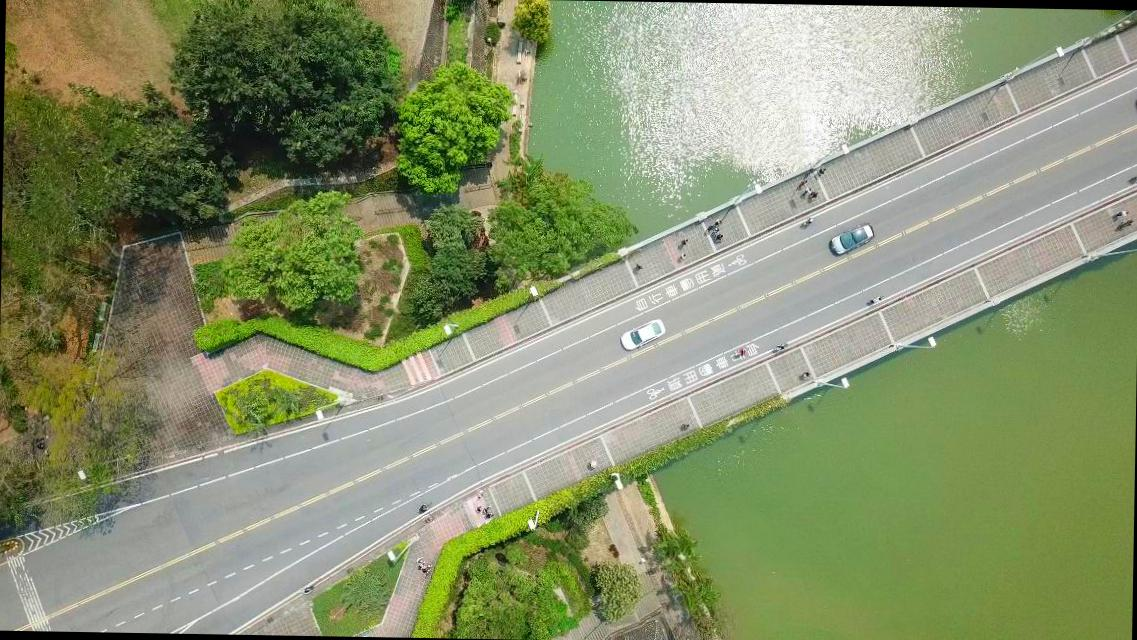vehicle: (620, 318, 666, 351), (829, 222, 875, 255)
